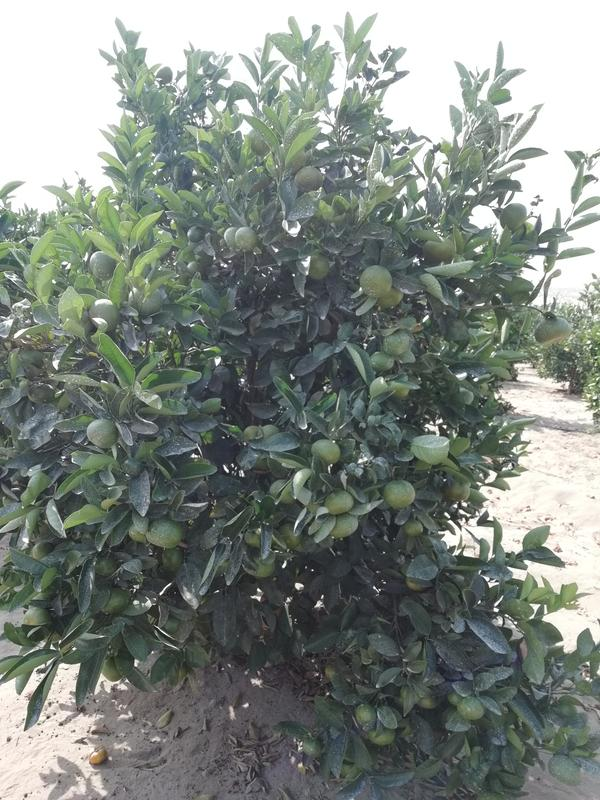mandarina verde: (147, 518, 187, 548), (360, 265, 393, 300), (85, 417, 119, 449), (88, 297, 119, 330), (384, 479, 416, 510), (534, 318, 569, 344), (311, 438, 341, 466), (88, 250, 115, 281), (295, 165, 323, 192), (324, 490, 353, 514), (382, 330, 411, 354), (354, 701, 377, 730), (458, 696, 484, 721), (500, 203, 526, 228), (444, 479, 472, 502), (235, 225, 259, 251), (332, 515, 357, 538), (368, 350, 395, 371), (185, 225, 206, 243), (403, 521, 425, 538), (224, 224, 234, 249)
